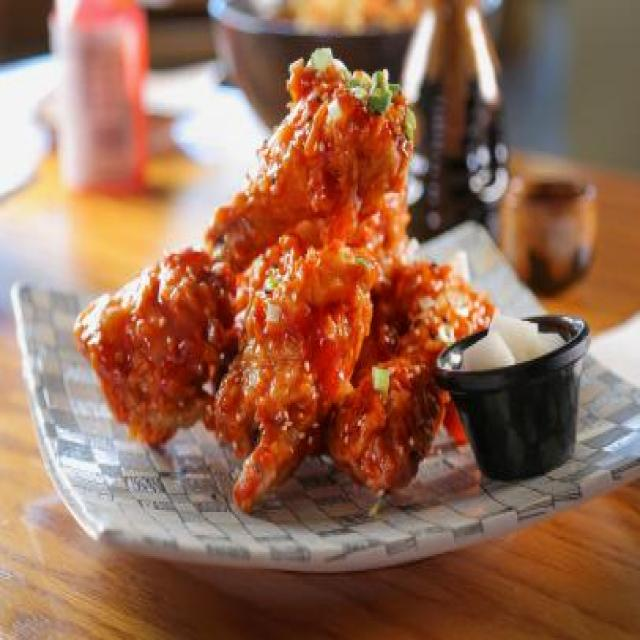Frango: (71, 52, 500, 522)
